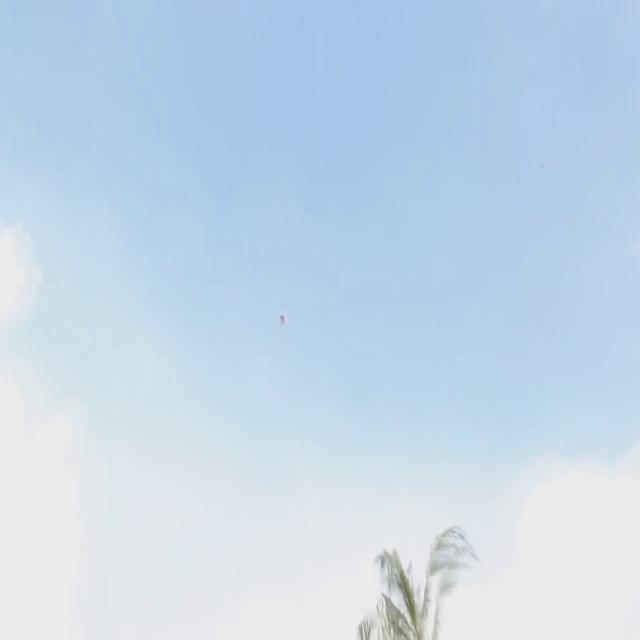drone: (279, 308, 289, 328)
